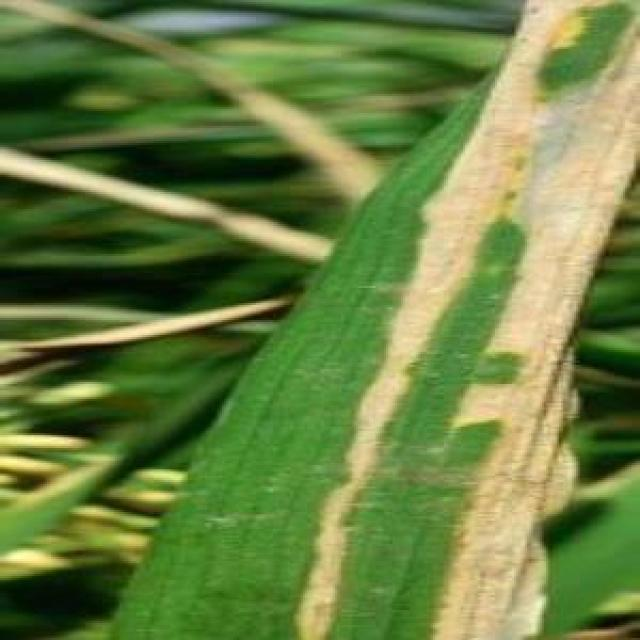Bacterial_Blight: (286, 0, 603, 640), (431, 0, 640, 640)
